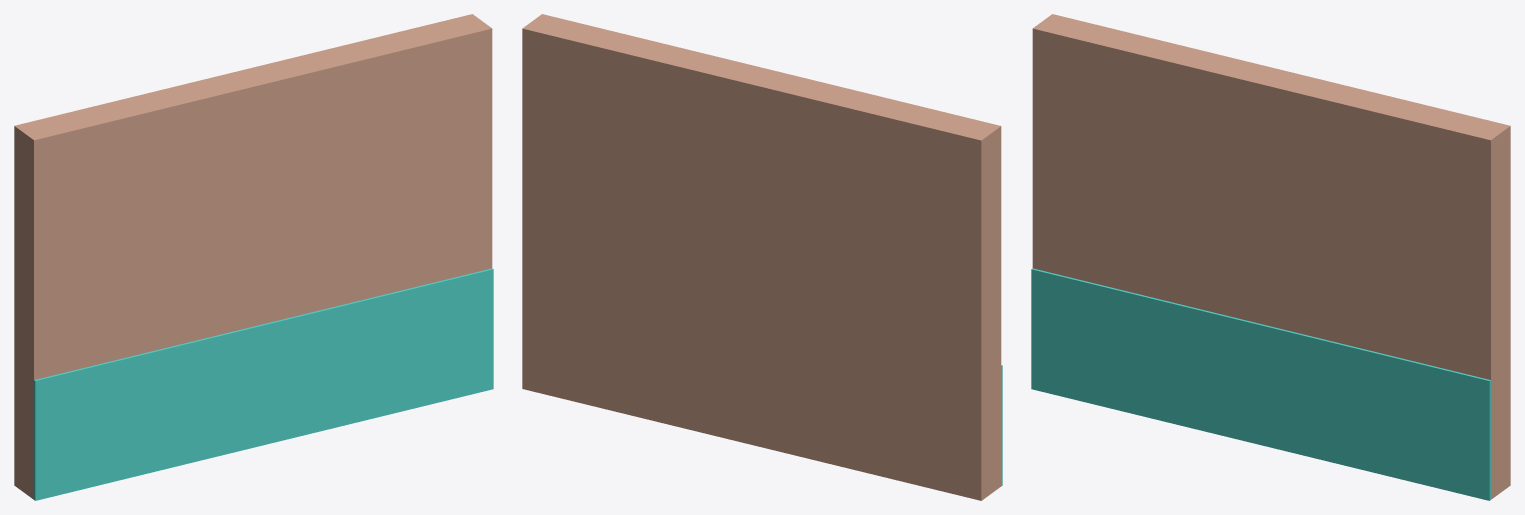
Rendered from b-wall.glb.
3 renders of one model, left to right at view 1: azimuth 30°, elevation 25°; view 2: azimuth 150°, elevation 25°; view 3: azimuth 330°, elevation 25°, orthographic.
Visible parts, largest first — view 1: b-wall; view 2: b-wall; view 3: b-wall.
Part boxes in pixels (x1,y1,x2,y2): b-wall: (14, 14, 493, 500); b-wall: (522, 14, 1002, 500); b-wall: (1031, 14, 1510, 500).
Bounding box in the file's own units: 4 × 3 × 0.32.
